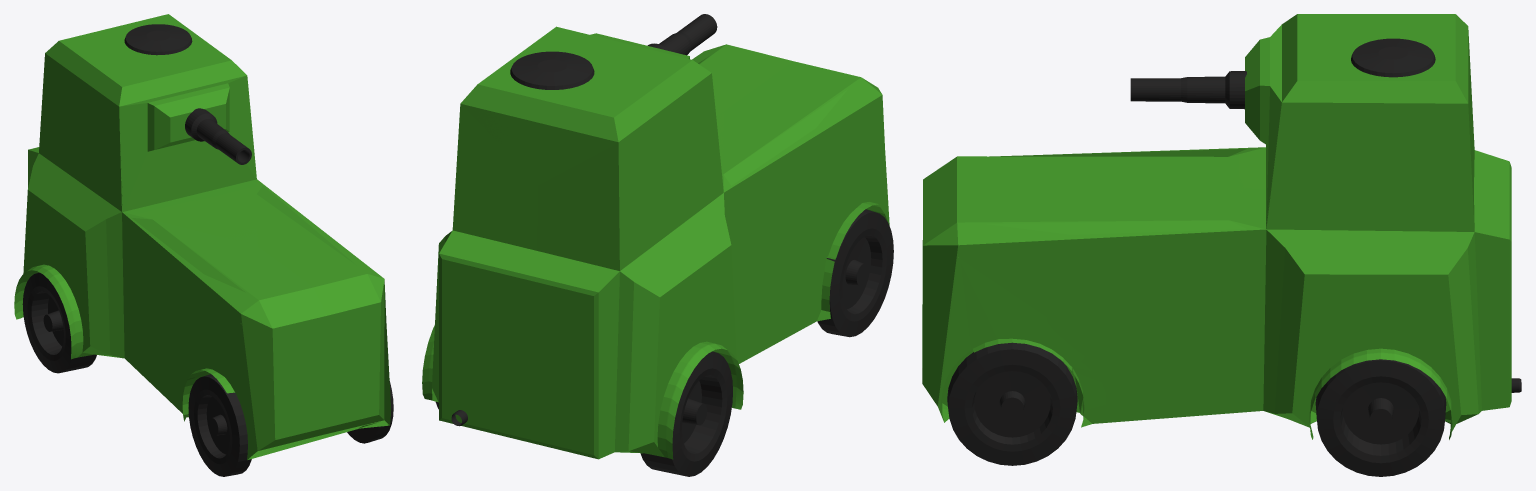
The model's file is Btr.fbx.
3 renders of one model, left to right at view 1: azimuth 30°, elevation 25°; view 2: azimuth 150°, elevation 25°; view 3: azimuth 270°, elevation 25°, orthographic. The views are drawn at different scales.
Parts seen in each view (by area): view 1: Btr; view 2: Btr; view 3: Btr.
Boxes of the visible parts, <box> form: Btr: <box>14,14,393,476</box>; Btr: <box>422,14,893,476</box>; Btr: <box>922,14,1521,476</box>.
Size of the model in its own units: 275 by 395 by 567.
